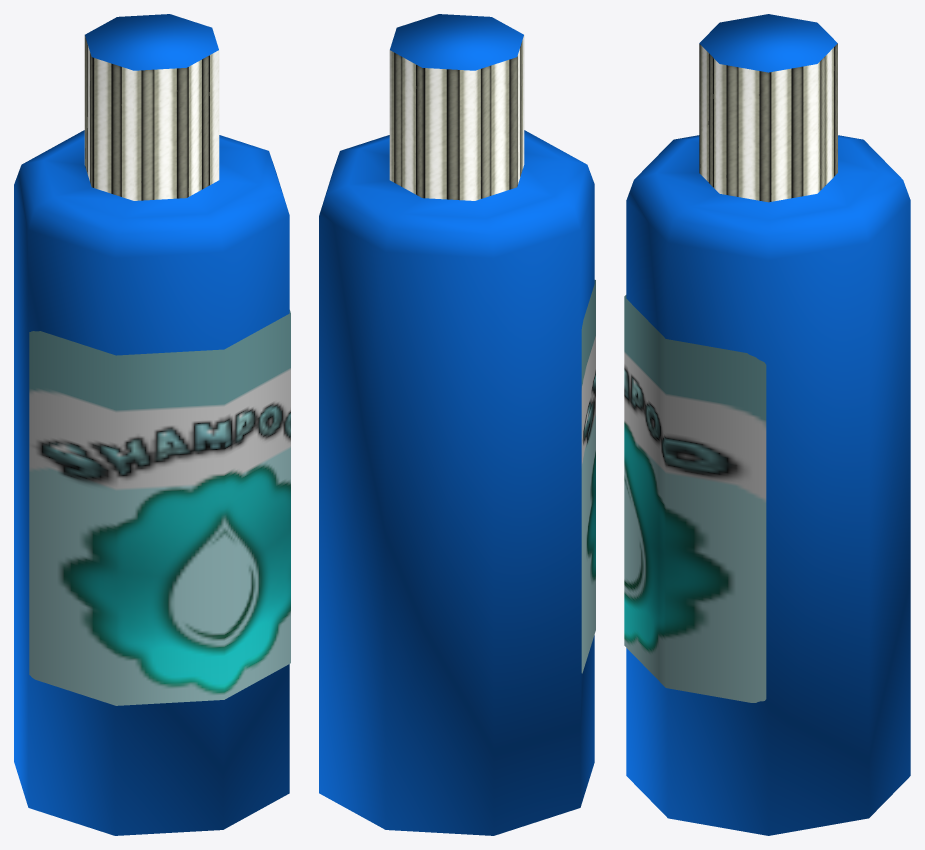
The model's file is Shampoo_2.FBX.
3 views of the same model, side by side, from view 1: azimuth 30°, elevation 25°; view 2: azimuth 150°, elevation 25°; view 3: azimuth 270°, elevation 25° (orthographic).
Parts seen in each view (by area): view 1: Bottle; view 2: Bottle; view 3: Bottle.
Part boxes in pixels (x1,y1,x2,y2): Bottle: [14, 14, 290, 835]; Bottle: [319, 14, 595, 835]; Bottle: [624, 14, 910, 835].
Size of the model in its own units: 16.86 by 47.93 by 16.98.
